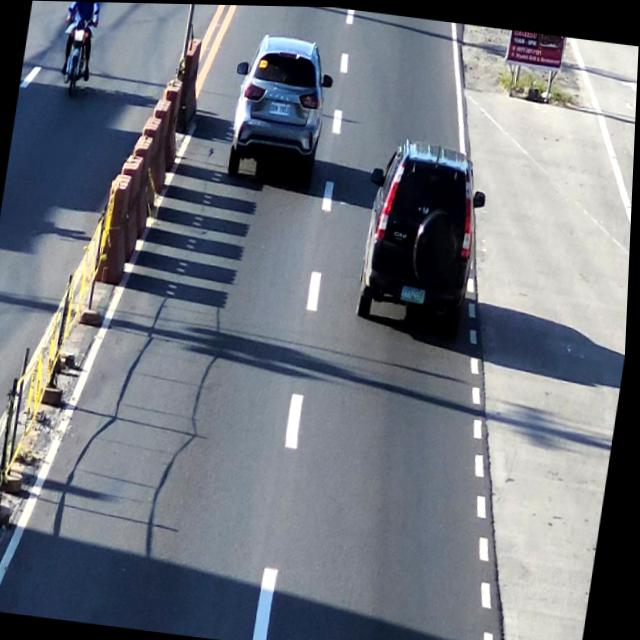Car: (356, 132, 490, 338), (224, 29, 335, 182)
License-Plate: (400, 279, 430, 301), (268, 97, 292, 115)
